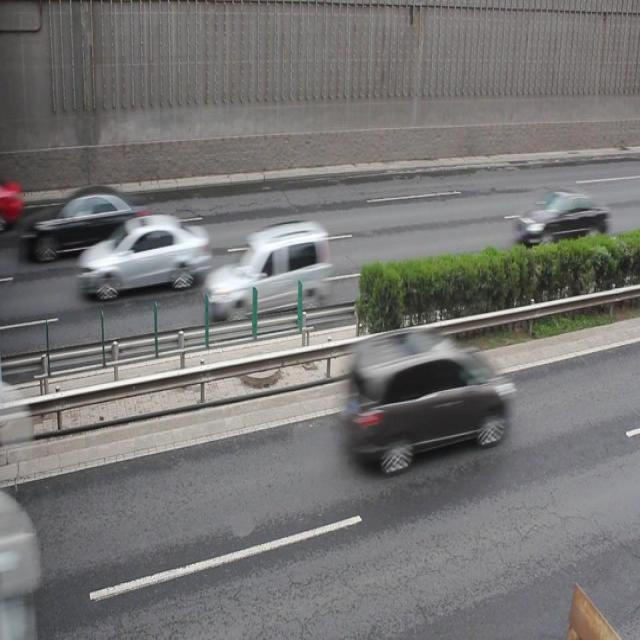car: (202, 219, 331, 320), (78, 212, 210, 299), (34, 183, 148, 264), (514, 188, 609, 258)
truck: (344, 328, 510, 469)
